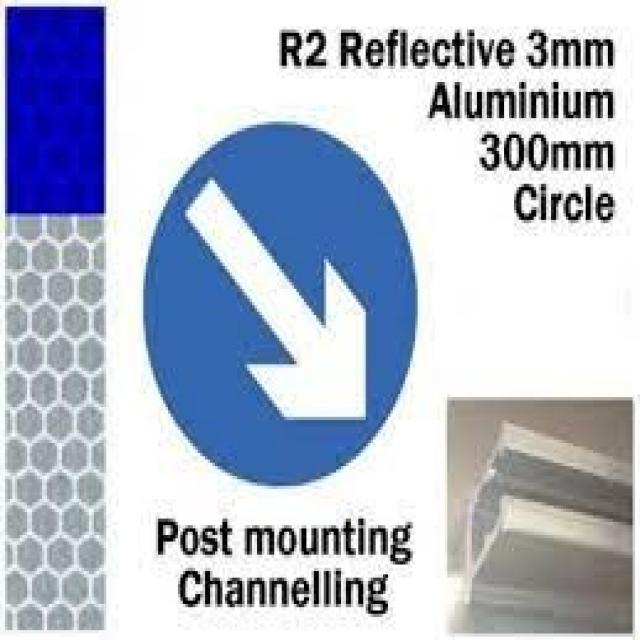compulsory_keep_right: (141, 116, 426, 502)
